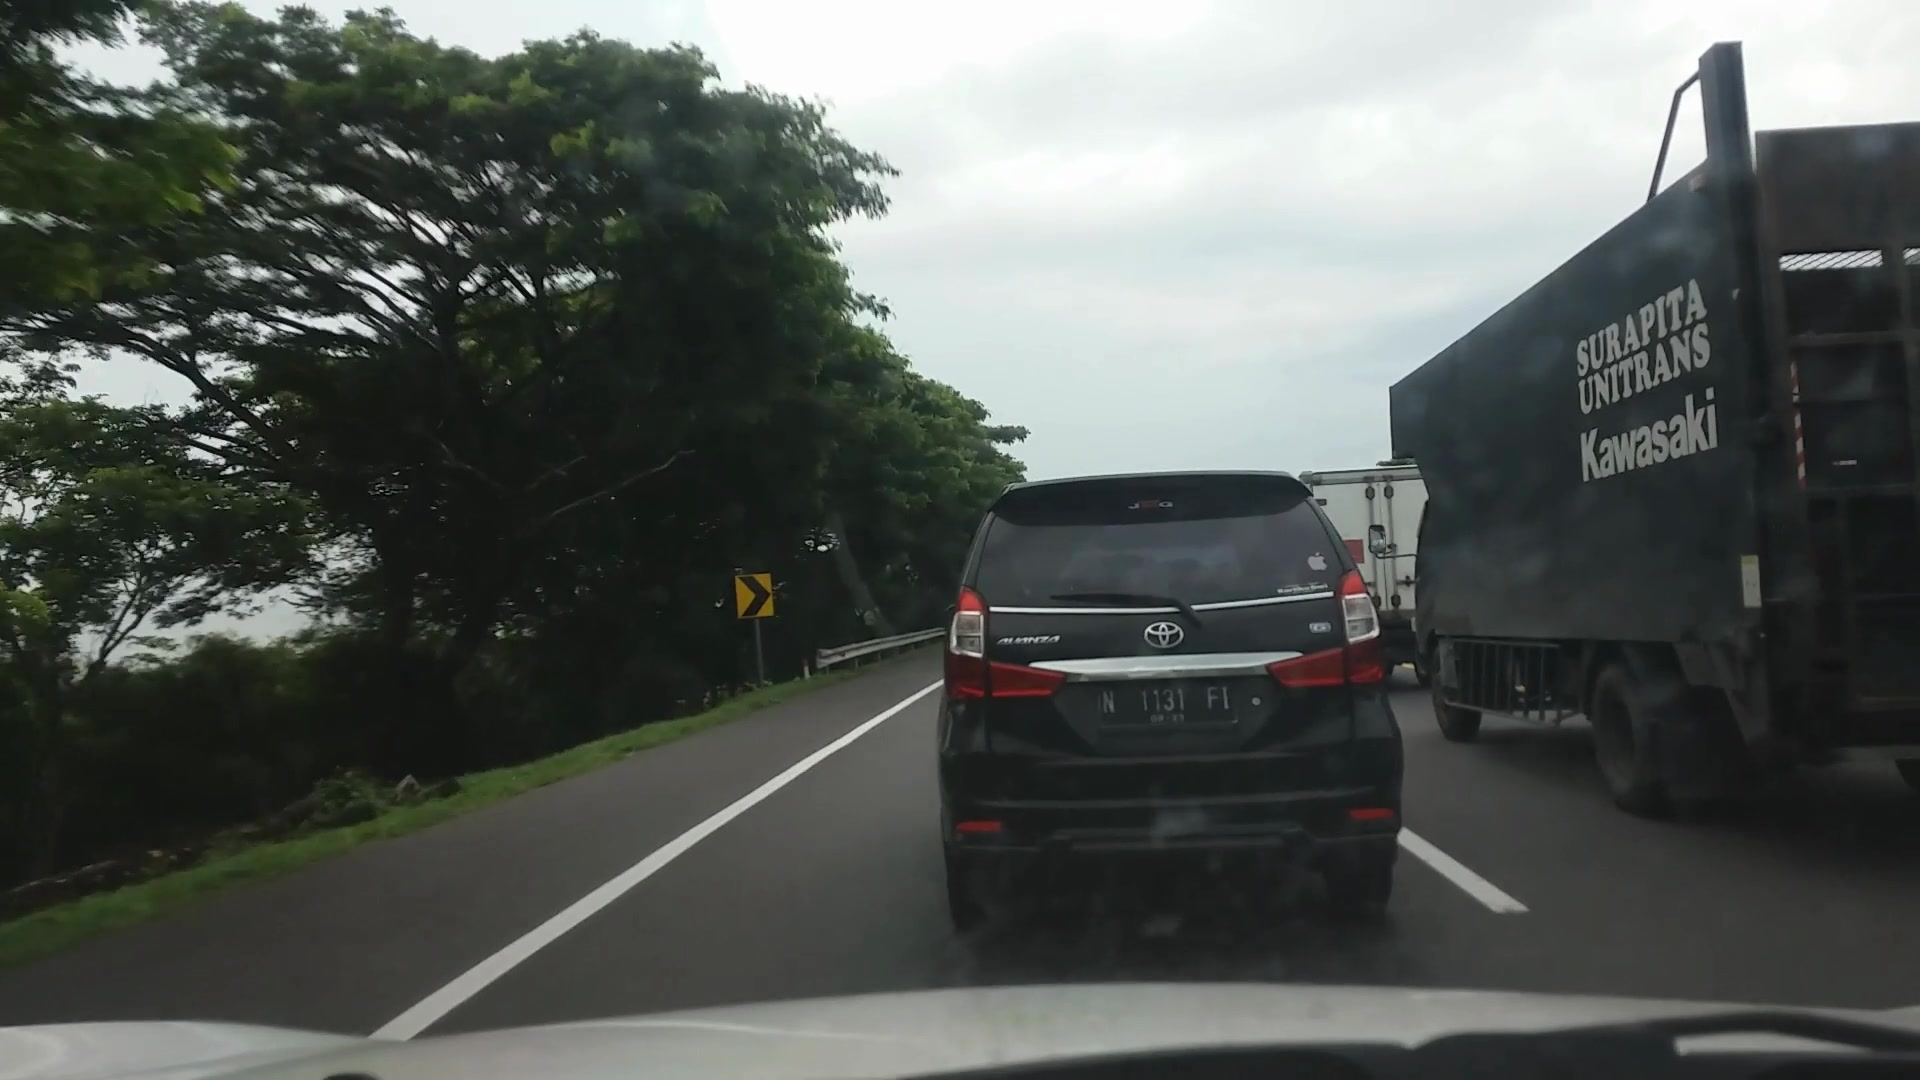plate_positive: (1098, 680, 1237, 727)
